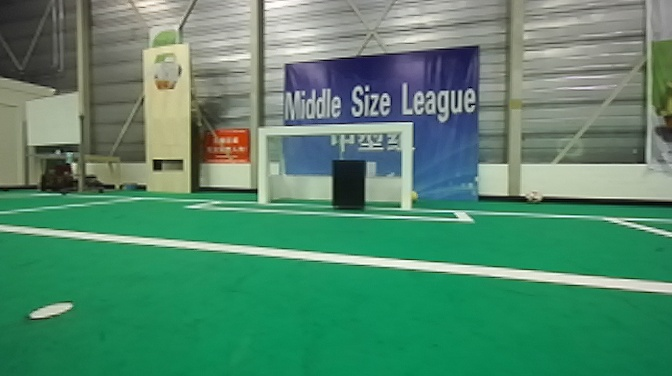ball: (521, 188, 544, 201), (409, 187, 420, 202)
goalpost: (398, 122, 414, 212), (256, 121, 272, 202)
